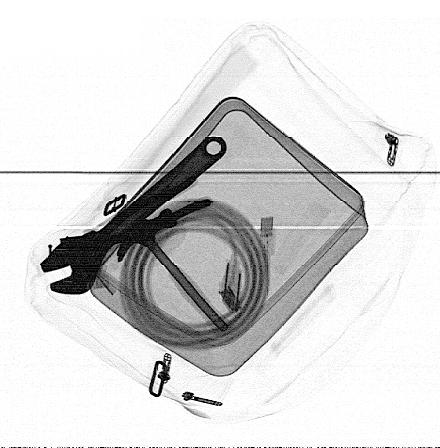Hammer: (112, 211, 238, 339)
Pliers: (81, 191, 219, 266)
Wrench: (41, 134, 228, 298)
